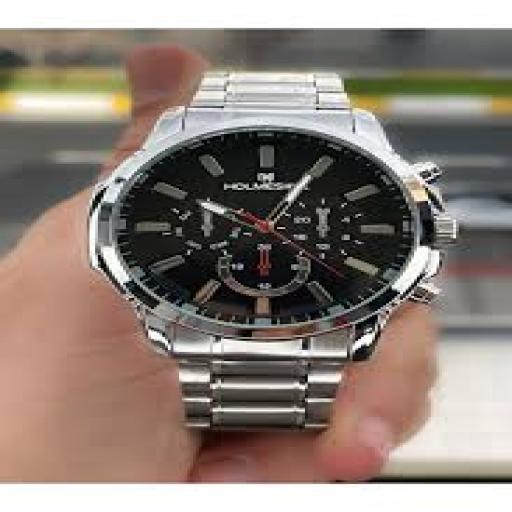KolSaati: (54, 42, 480, 451)
